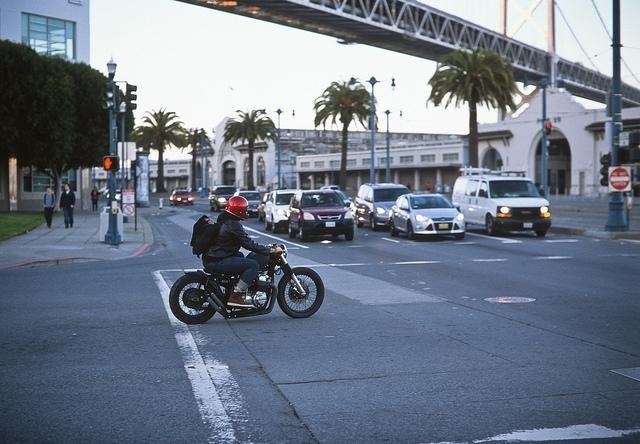car: (452, 168, 550, 242), (286, 187, 355, 245), (389, 190, 465, 242), (354, 182, 412, 232), (264, 188, 296, 233), (234, 192, 262, 218), (209, 186, 237, 211), (169, 190, 195, 206)
motorcycle: (168, 244, 326, 328)
